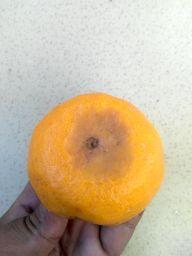Unripe: (27, 93, 164, 224)
